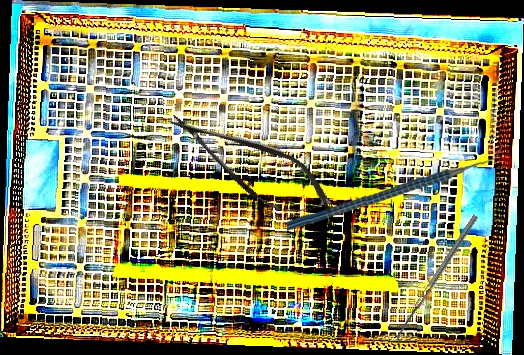Chopper: (287, 137, 503, 235)
Micro Scissor: (157, 94, 344, 235)
Spatula Surgical: (390, 214, 483, 349)
